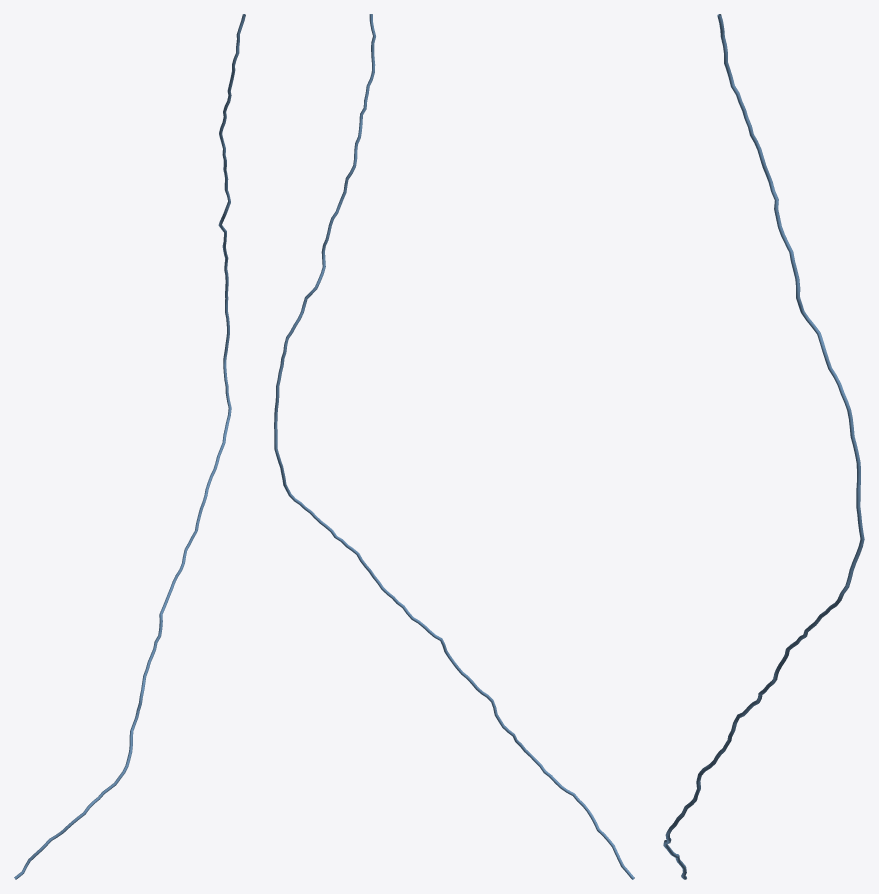
File: sweep110.fbx
3 views of the same model, side by side, from view 1: azimuth 30°, elevation 25°; view 2: azimuth 150°, elevation 25°; view 3: azimuth 270°, elevation 25° (orthographic). The views are drawn at different scales.
Visible parts, largest first — view 1: sweep110; view 2: sweep110; view 3: sweep110.
Part boxes in pixels (x1,y1,x2,y2): sweep110: (14, 14, 245, 879); sweep110: (274, 14, 634, 879); sweep110: (663, 14, 864, 879).
Size of the model in its own units: 1.99 by 5.35 by 0.96.
